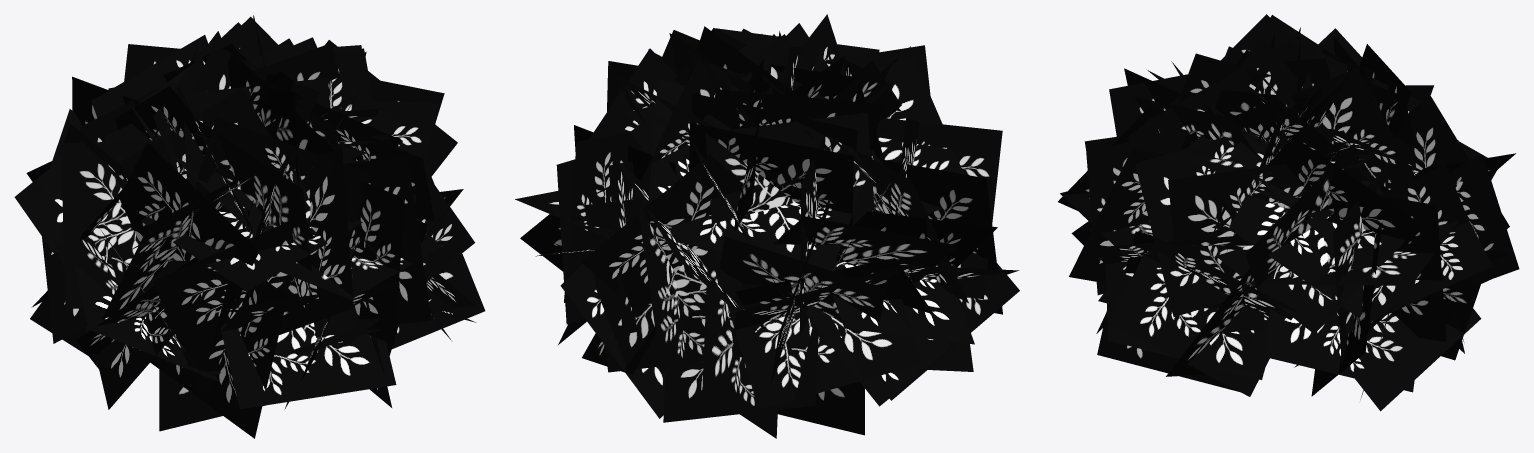
The model's file is krzak 1.fbx.
3 views of the same model, side by side, from view 1: azimuth 30°, elevation 25°; view 2: azimuth 150°, elevation 25°; view 3: azimuth 270°, elevation 25° (orthographic). The views are drawn at different scales.
Visible parts, largest first — view 1: leaves, leaf; view 2: leaves, leaf; view 3: leaves.
Part boxes in pixels (<box>): leaves: <box>14,15,485,438</box>; leaf: <box>159,369,265,431</box>; leaves: <box>515,14,1019,438</box>; leaf: <box>777,381,864,435</box>; leaves: <box>1058,14,1519,411</box>.
Bounding box in the file's own units: 243 × 206 × 243.
1 material, 1 textured.
